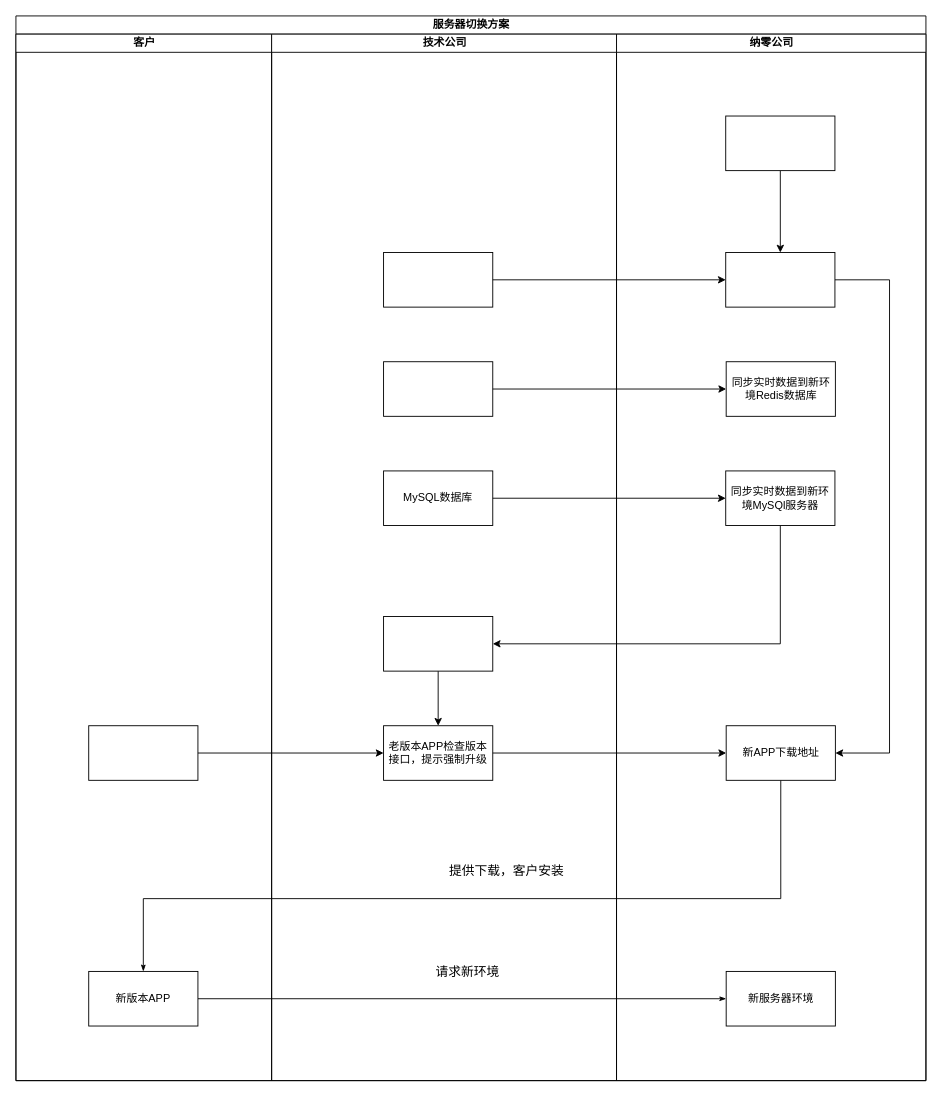
The diagram is 942 pixels wide and 1097 high, and some of its shapes have lost their labels. The shapes that lost their labels are listed below. From the top down, each one's centre as x and y in pixels, then its label:
the point at 780,143: 新服务器环境所有服务启动并正常运行
the point at 438,279: 域名替换为纳零公司域名，新打包APP
the point at 780,279: 上传到新环境服务器，并提供一个下载地址
the point at 438,388: Redis数据库
the point at 438,643: 老版本APP检查版本号接口需要长期保持运行正常，其他接口不再提供服务
the point at 143,752: 客户进入老版本APP
